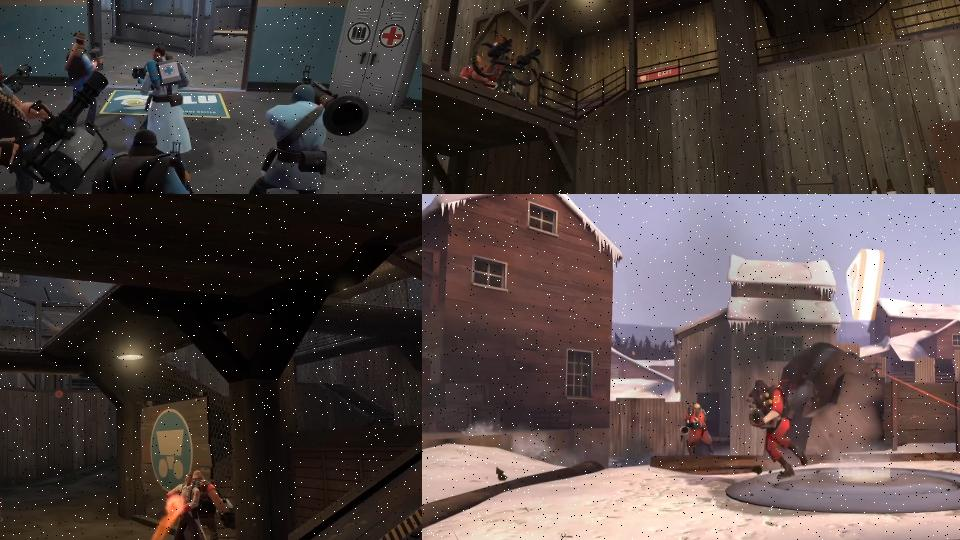Enemy: (234, 63, 370, 194), (87, 129, 205, 194), (132, 43, 192, 161), (746, 380, 809, 477), (63, 31, 106, 134), (183, 469, 236, 540), (0, 52, 33, 161), (166, 474, 213, 540), (680, 403, 716, 454), (461, 55, 489, 87)
